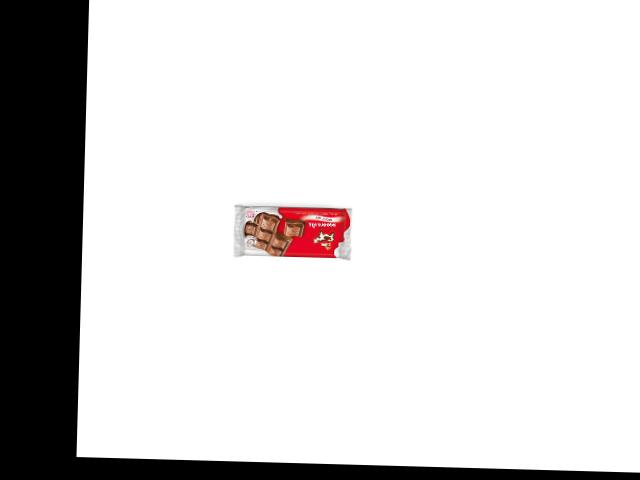chocolate: (229, 204, 353, 261)
